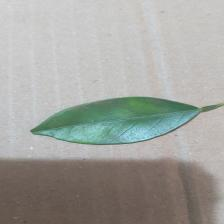greening: (26, 92, 224, 145)
